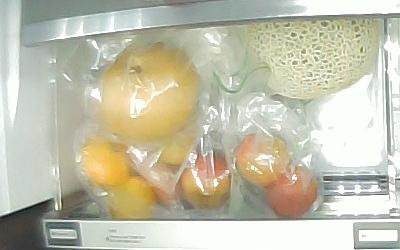melon: (233, 19, 380, 101)
pear_vinyl: (97, 42, 201, 143)
prune_vinyl: (235, 132, 292, 186), (182, 154, 234, 210)
tangerine_vinyl: (78, 142, 131, 188), (105, 176, 158, 221)
tomato_vinyl: (264, 165, 319, 219)
